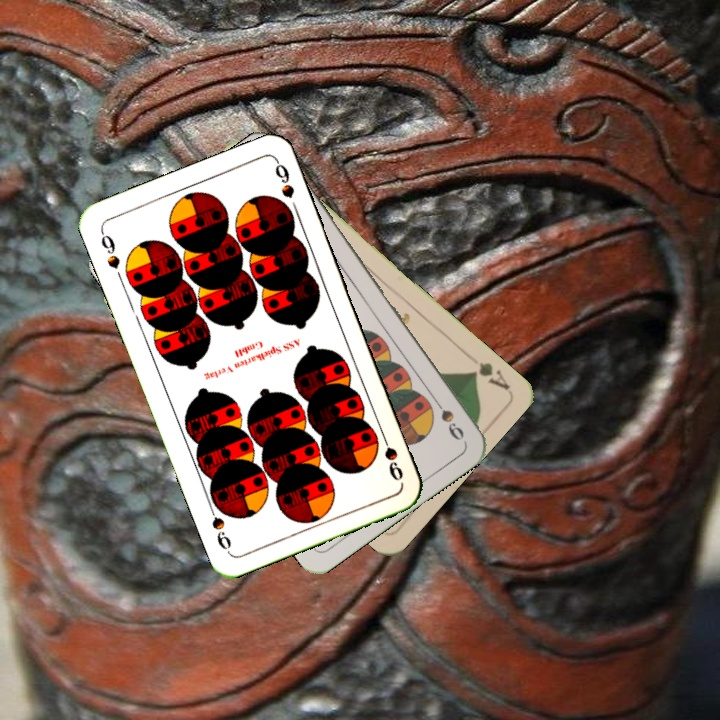GA: (466, 358, 512, 392)
S9: (427, 391, 467, 443), (376, 427, 406, 483), (96, 226, 123, 272)
